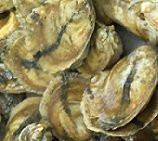Oyster-Open: (86, 46, 158, 128), (24, 0, 97, 72), (80, 78, 158, 135), (4, 30, 63, 95), (40, 72, 95, 141), (76, 23, 123, 75), (97, 0, 158, 40), (3, 97, 53, 141)
